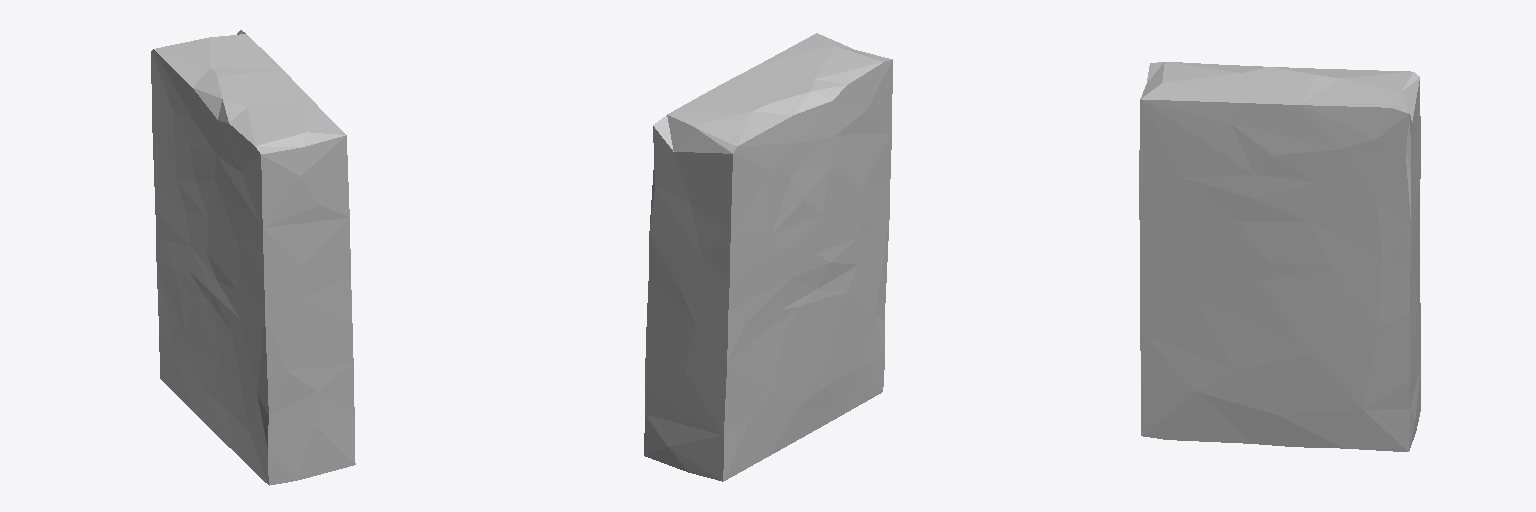
File: HotPot_250_collision.obj
3 views of the same model, side by side, from view 1: azimuth 30°, elevation 25°; view 2: azimuth 150°, elevation 25°; view 3: azimuth 270°, elevation 25° (orthographic).
Bounding box in the file's own units: 0.0476 × 0.1301 × 0.0972.